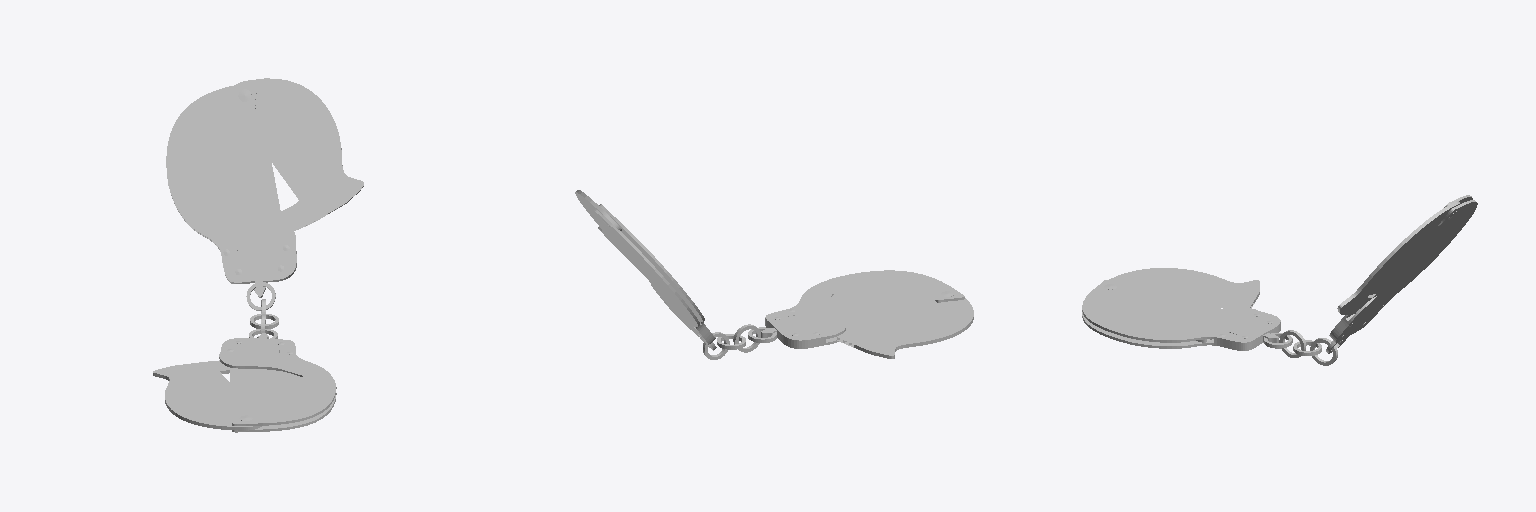
File: Handcuffs.obj
The picture shows the model from 3 angles: view 1: azimuth 30°, elevation 25°; view 2: azimuth 150°, elevation 25°; view 3: azimuth 270°, elevation 25°; orthographic projection.
Parts seen in each view (by area): view 1: Curve.025_Mesh.008, Curve.023_Mesh.009, Curve.000_Mesh.016, Curve.001_Mesh.017; view 2: Curve.000_Mesh.016, Curve.001_Mesh.017, Curve.025_Mesh.008, Curve.023_Mesh.009; view 3: Curve.000_Mesh.016, Curve.025_Mesh.008, Curve.001_Mesh.017, Curve.023_Mesh.009.
Boxes of the visible parts, x1=… form: Curve.025_Mesh.008: x1=166, y1=81, x2=296, y2=310; Curve.023_Mesh.009: x1=236, y1=78, x2=363, y2=230; Curve.000_Mesh.016: x1=219, y1=329, x2=336, y2=432; Curve.001_Mesh.017: x1=153, y1=360, x2=261, y2=430; Curve.000_Mesh.016: x1=748, y1=270, x2=964, y2=348; Curve.001_Mesh.017: x1=833, y1=298, x2=973, y2=358; Curve.025_Mesh.008: x1=594, y1=204, x2=716, y2=350; Curve.023_Mesh.009: x1=575, y1=190, x2=644, y2=275; Curve.000_Mesh.016: x1=1082, y1=280, x2=1292, y2=350; Curve.025_Mesh.008: x1=1326, y1=195, x2=1477, y2=353; Curve.001_Mesh.017: x1=1109, y1=268, x2=1259, y2=342; Curve.023_Mesh.009: x1=1337, y1=201, x2=1460, y2=314.
Bounding box in the file's own units: 1.2 × 0.7738 × 1.47.